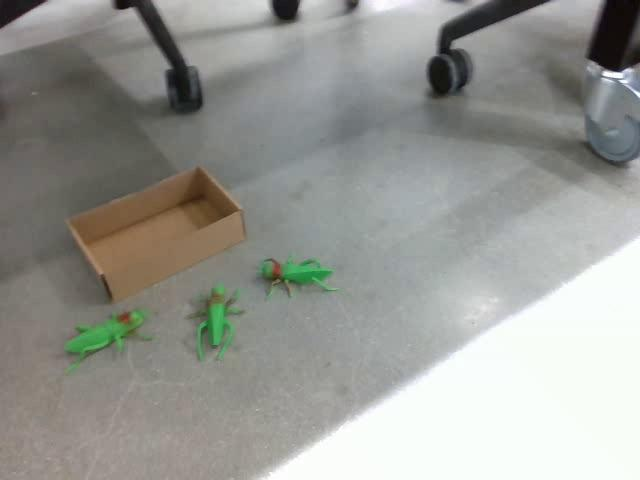box: (64, 164, 246, 303)
grasshopper: (62, 308, 146, 374), (185, 281, 245, 361), (256, 254, 338, 298)
